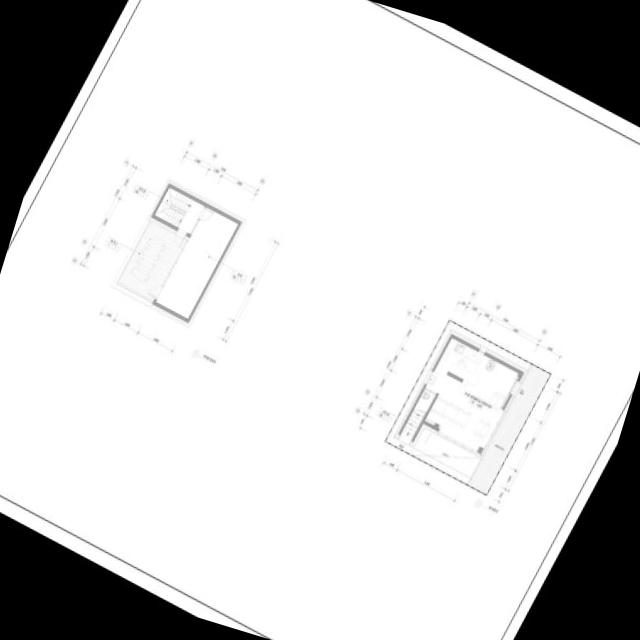background: (0, 0, 640, 640)
space_other: (424, 337, 518, 452), (155, 207, 238, 319)
space_staircase: (154, 187, 204, 234), (400, 410, 426, 440)
space_toilet: (413, 389, 435, 412)
